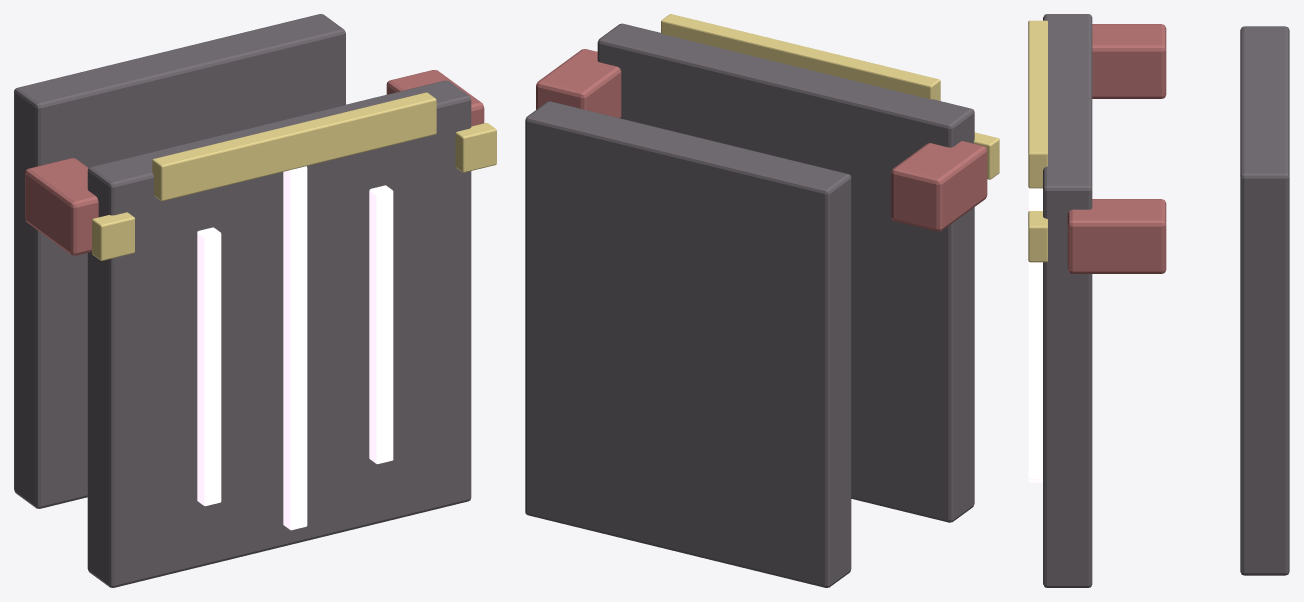
The model's file is armor_cinderbloom_plate.glb.
3 renders of one model, left to right at view 1: azimuth 30°, elevation 25°; view 2: azimuth 150°, elevation 25°; view 3: azimuth 270°, elevation 25°, orthographic.
Visible parts, largest first — view 1: Front, Back, Collar, Vein_C, Vein_R, Vein_L, Strap_L, Buckle_L, Buckle_R, Strap_R; view 2: Back, Front, Strap_L, Collar, Strap_R, Buckle_L; view 3: Back, Front, Strap_R, Strap_L, Vein_R, Collar, Buckle_R.
Part boxes in pixels (left/top/right/bottom): Front: left=87, top=80, right=471, bottom=587; Back: left=14, top=14, right=345, bottom=508; Collar: left=152, top=92, right=436, bottom=201; Vein_C: left=283, top=166, right=307, bottom=530; Vein_R: left=369, top=185, right=393, bottom=464; Vein_L: left=197, top=227, right=221, bottom=506; Strap_L: left=25, top=158, right=98, bottom=255; Buckle_L: left=92, top=212, right=134, bottom=260; Buckle_R: left=455, top=123, right=496, bottom=172; Strap_R: left=386, top=70, right=484, bottom=126; Back: left=525, top=101, right=851, bottom=587; Front: left=597, top=23, right=974, bottom=522; Strap_L: left=891, top=141, right=987, bottom=231; Collar: left=661, top=14, right=940, bottom=100; Strap_R: left=536, top=49, right=621, bottom=118; Buckle_L: left=973, top=132, right=999, bottom=179; Back: left=1240, top=26, right=1289, bottom=575; Front: left=1043, top=14, right=1092, bottom=587; Strap_R: left=1067, top=199, right=1166, bottom=273; Strap_L: left=1092, top=24, right=1166, bottom=98; Vein_R: left=1028, top=205, right=1042, bottom=480; Collar: left=1028, top=20, right=1047, bottom=188; Buckle_R: left=1028, top=211, right=1047, bottom=262.
Bounding box in the file's own units: 0.48 × 0.465 × 0.265.
